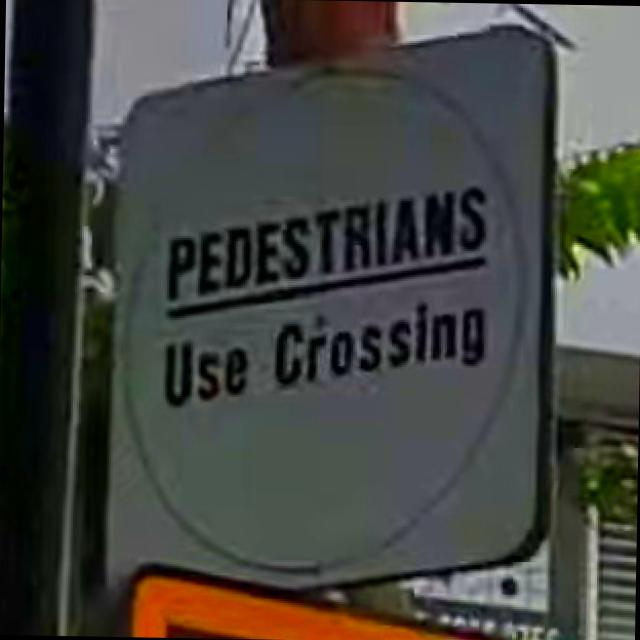pedestriancrossing_sign: (92, 14, 562, 598)
